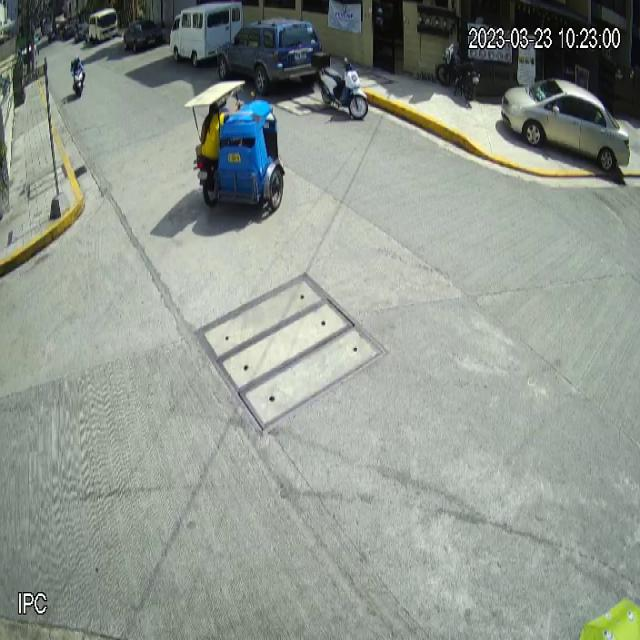Car: (500, 76, 631, 175), (216, 17, 322, 98)
Motorcycle: (310, 49, 370, 121)
Tricycle: (182, 77, 286, 214)
Van: (169, 1, 245, 67)
